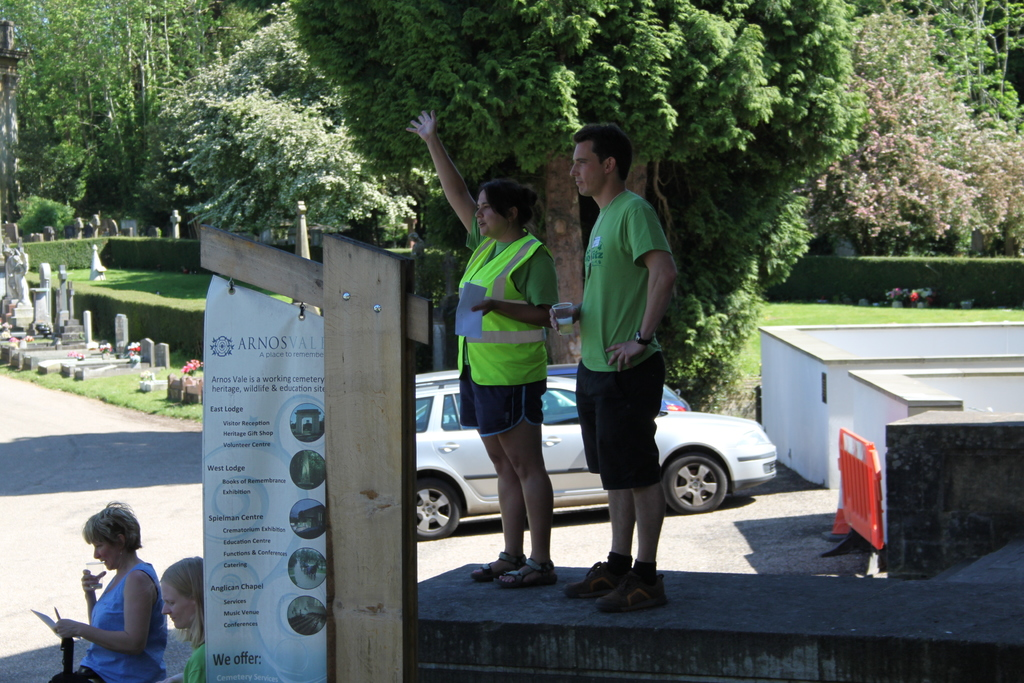cars: (411, 372, 780, 547), (544, 362, 686, 408)
